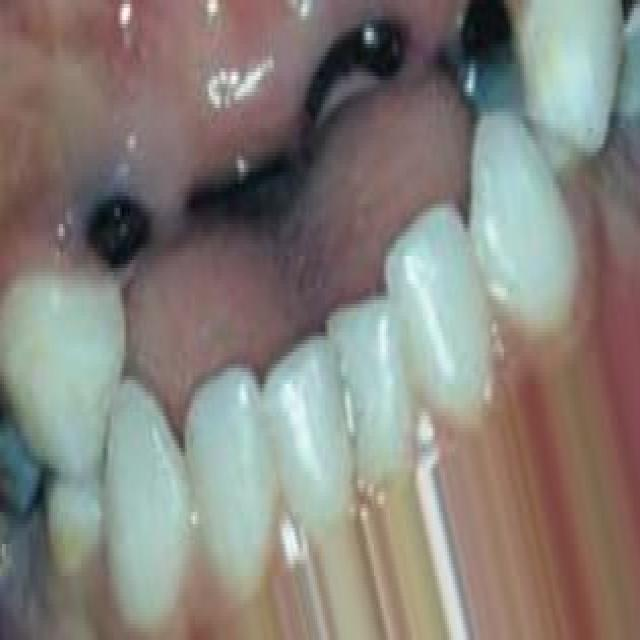caries: (293, 2, 413, 157), (433, 0, 532, 136), (180, 136, 291, 252), (77, 179, 168, 292)
